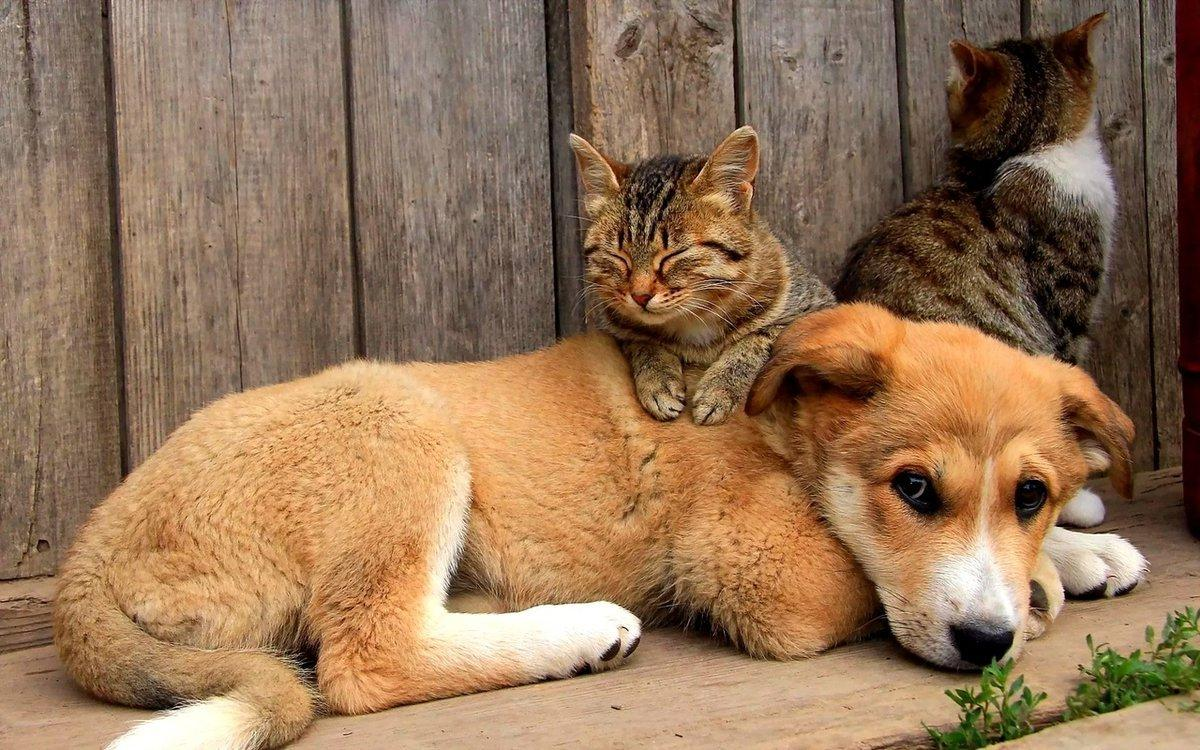animals: (36, 297, 1152, 711), (578, 116, 801, 417)
